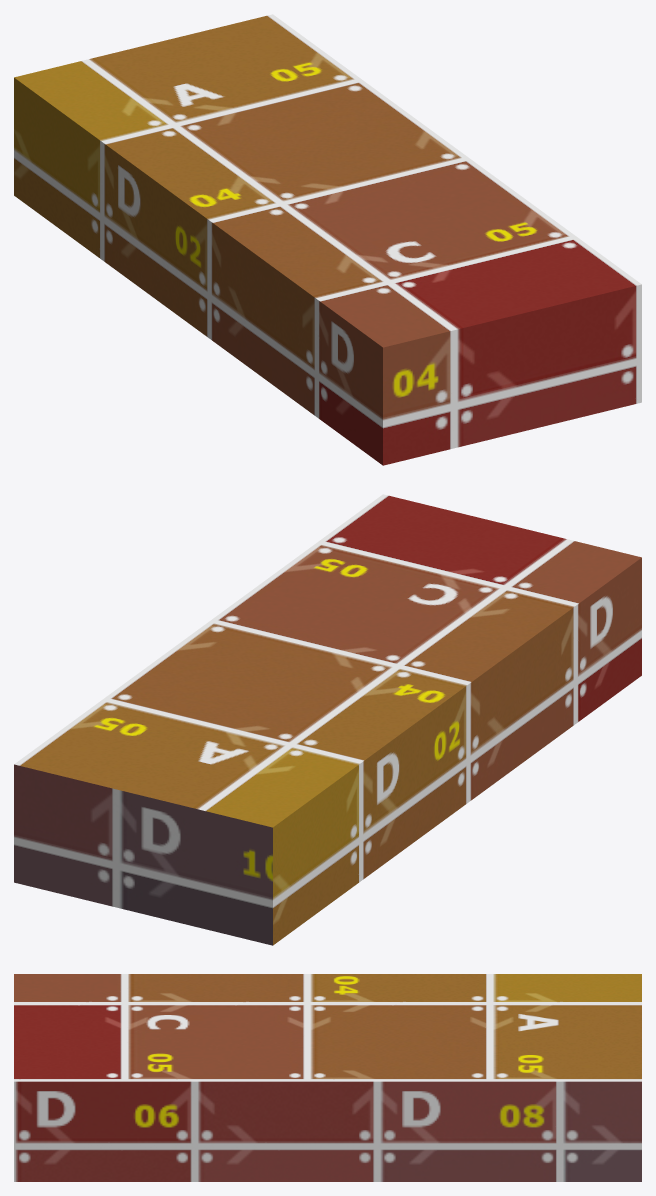
Rendered from testbox.fbx.
The picture shows the model from 3 angles, top to bottom: view 1: azimuth 30°, elevation 25°; view 2: azimuth 150°, elevation 25°; view 3: azimuth 270°, elevation 25°; orthographic projection. The views are drawn at different scales.
Parts seen in each view (by area): view 1: Cube; view 2: Cube; view 3: Cube.
Boxes of the visible parts, left/top/right/bottom form: Cube: left=14, top=14, right=641, bottom=465; Cube: left=14, top=494, right=641, bottom=945; Cube: left=14, top=974, right=641, bottom=1181.
Bounding box in the file's own units: 459 × 200 × 1133.
1 material, 1 textured.
